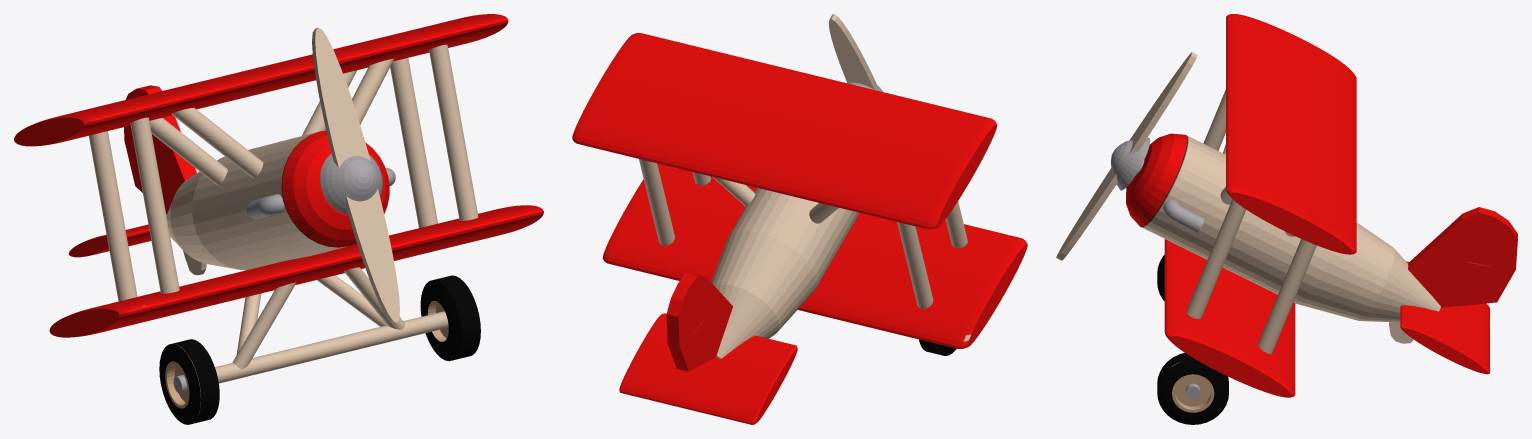
The model's file is Avioneta.obj.
The picture shows the model from 3 angles, left to right: view 1: azimuth 30°, elevation 25°; view 2: azimuth 150°, elevation 25°; view 3: azimuth 270°, elevation 25°; orthographic projection. The views are drawn at different scales.
Visible parts, largest first — view 1: Avioneta; view 2: Avioneta; view 3: Avioneta.
Part boxes in pixels (x1,y1,x2,y2): Avioneta: [14, 14, 543, 424]; Avioneta: [572, 14, 1027, 424]; Avioneta: [1056, 14, 1517, 424].
Bounding box in the file's own units: 3.48 × 2.84 × 3.8.
Materials: 1 (1 with a texture image).
